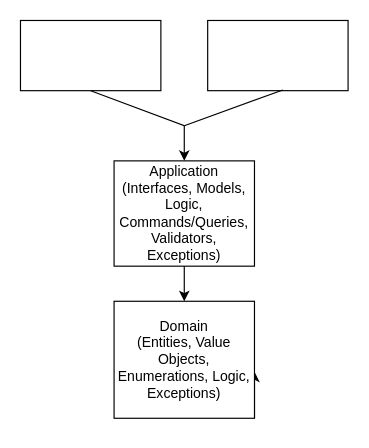
The diagram is 369 pixels wide and 448 high, and some of its shapes have lost their labels. Here are the shapes that lost their labels. From the top down, the centre of each, then its label:
the point at 90,55: Presentation
the point at 277,55: Infrastructure (persistence, identity, File System, System Clock)
